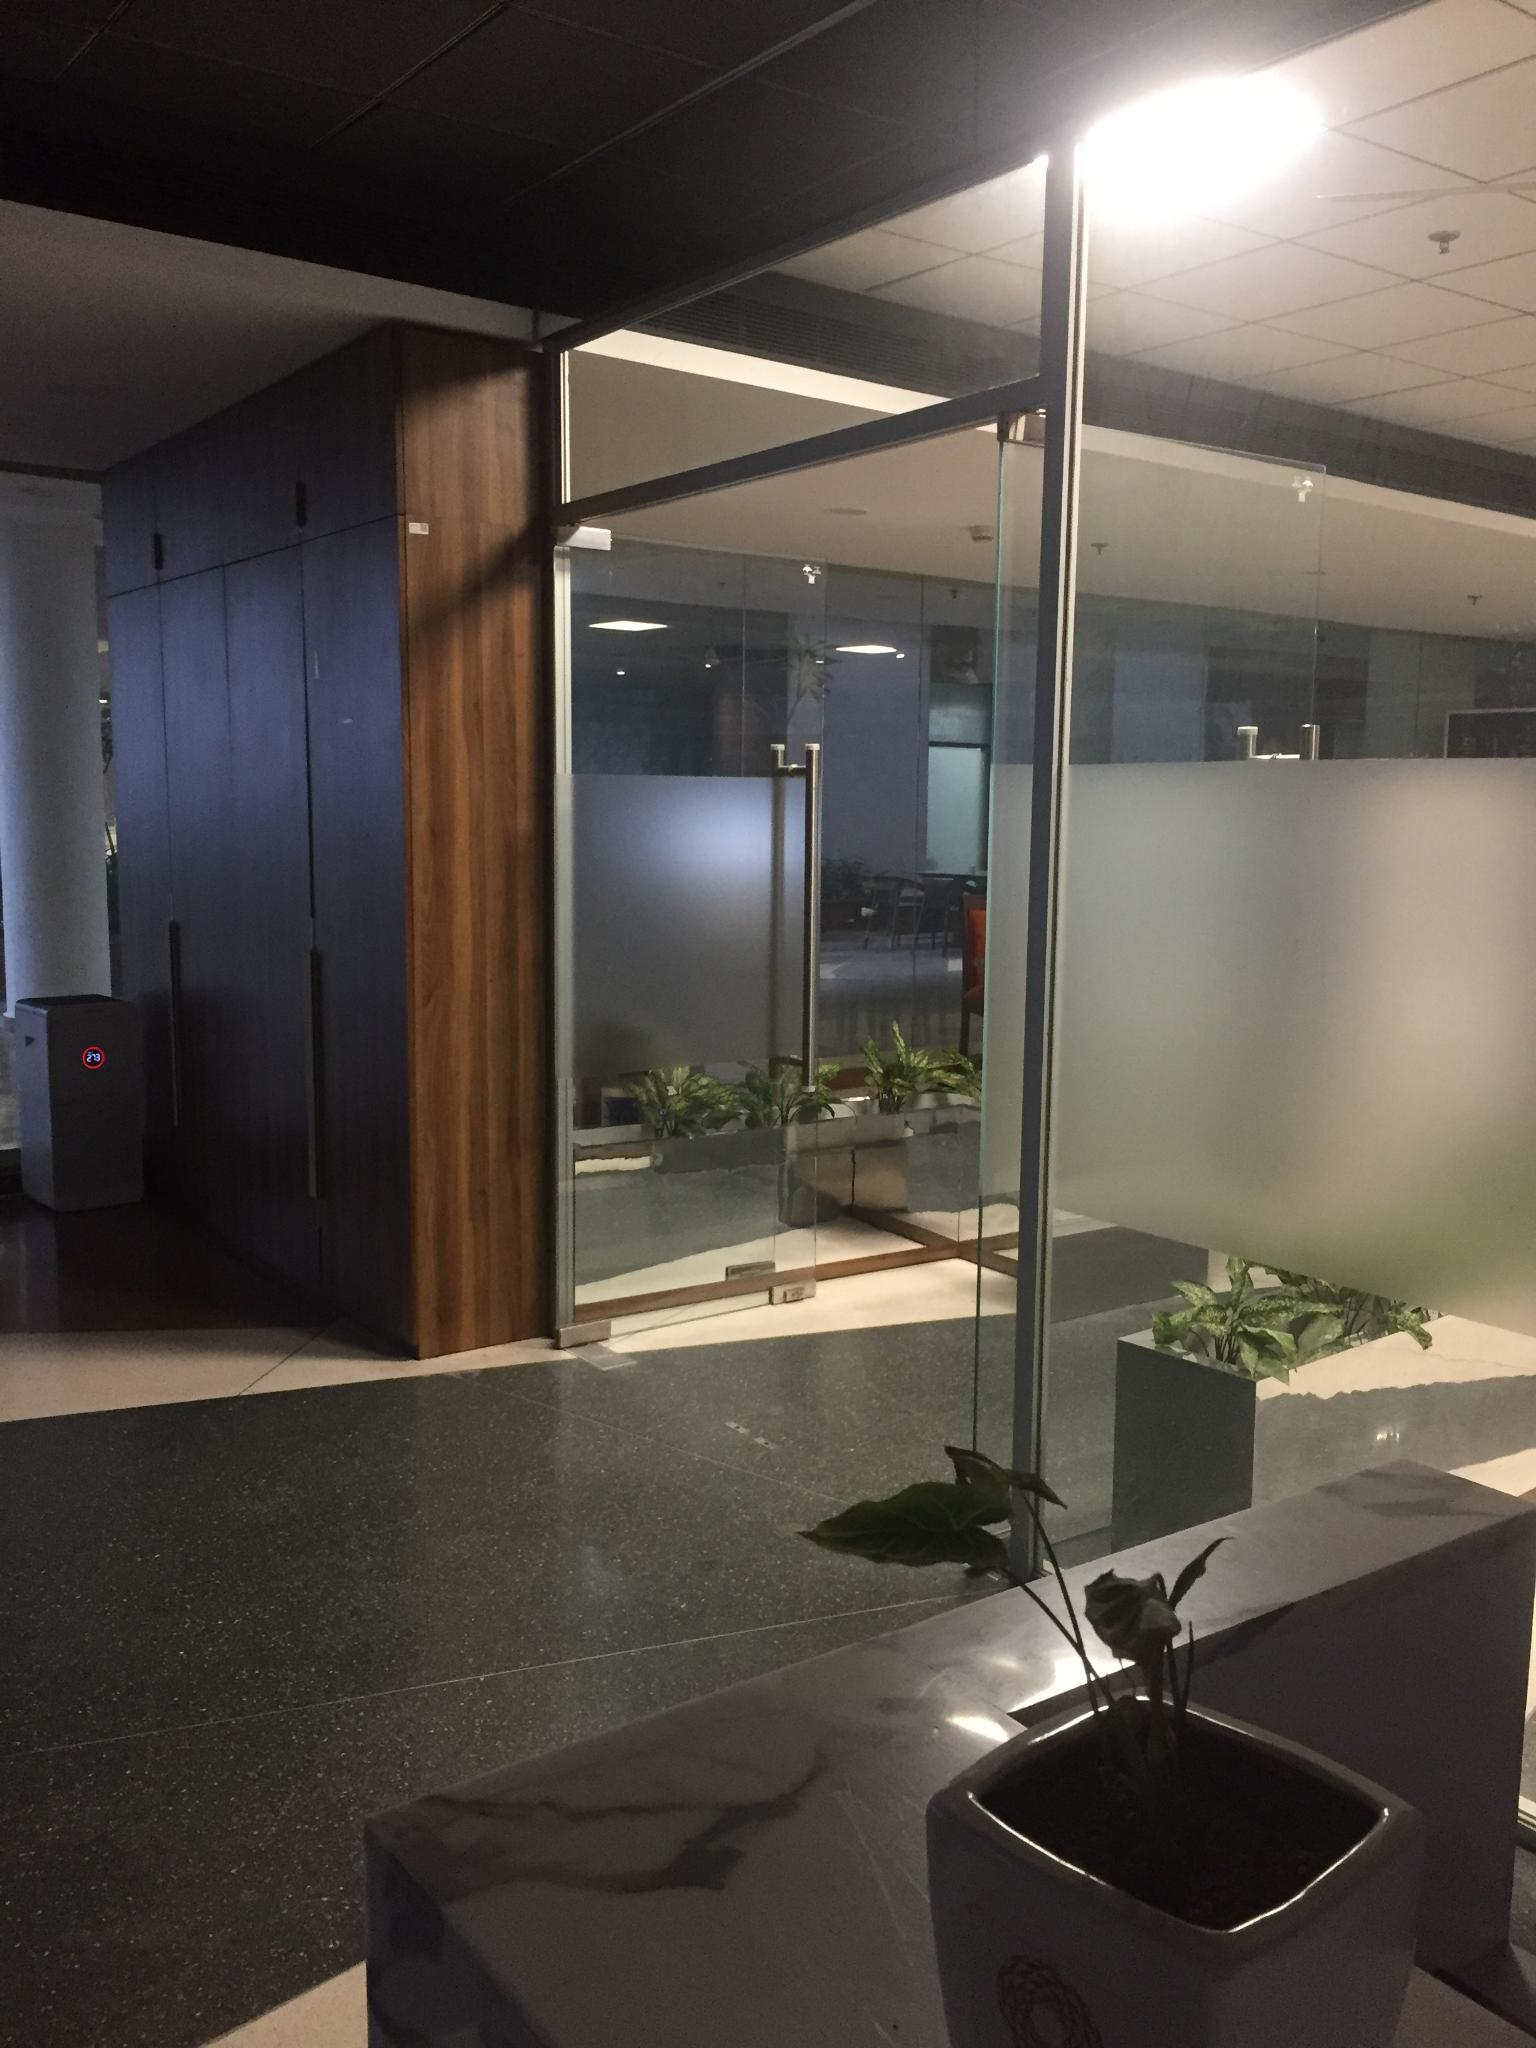chair: (963, 892, 1015, 1082), (871, 874, 925, 953), (925, 877, 957, 953)
